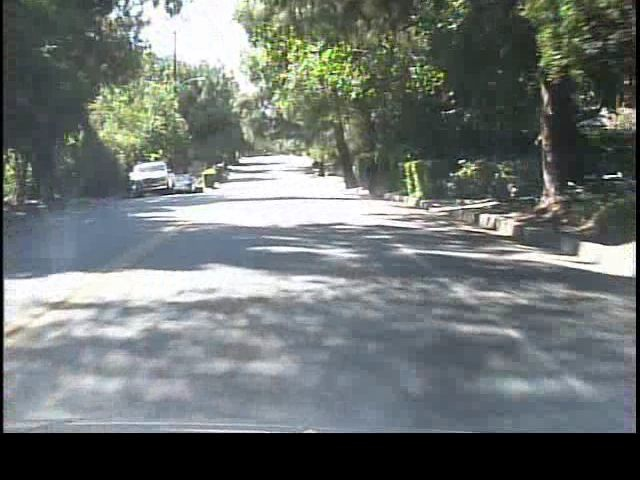person: (364, 154, 383, 201)
